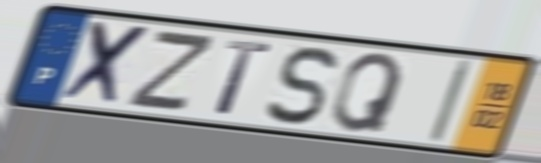I: (425, 58, 476, 146)
Q: (329, 50, 408, 136)
S: (262, 44, 341, 128)
T: (213, 36, 275, 119)
X: (57, 18, 155, 110)
Z: (122, 30, 221, 115)
